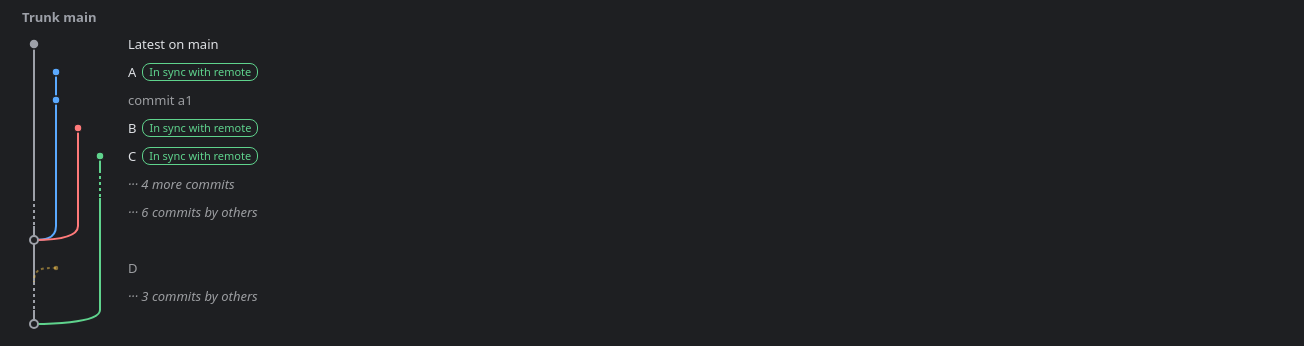
GraphView hover and selection › fades the dots, hooks and names of the other branches while one is hovered
Later steps or results of the test are not shown.
Hover over the button with class "g-row" showing "B In sync with remote".
mouse_move(67, 128)  # box [12,114,1292,142]
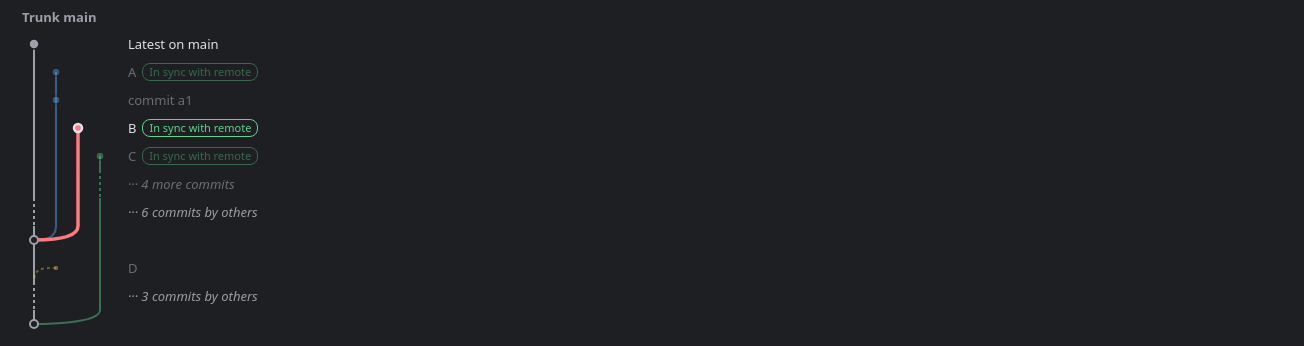
Expected: the button with class "g-row" has class "g-faded", [12,58,1292,86]
